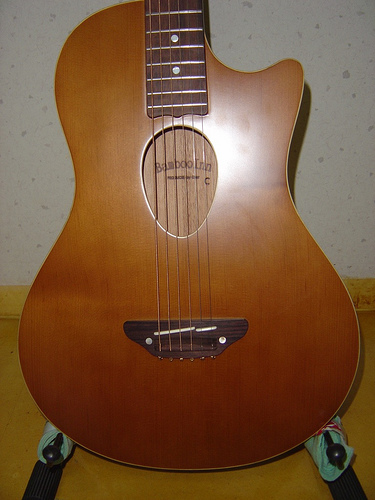guitar: (17, 1, 368, 473)
